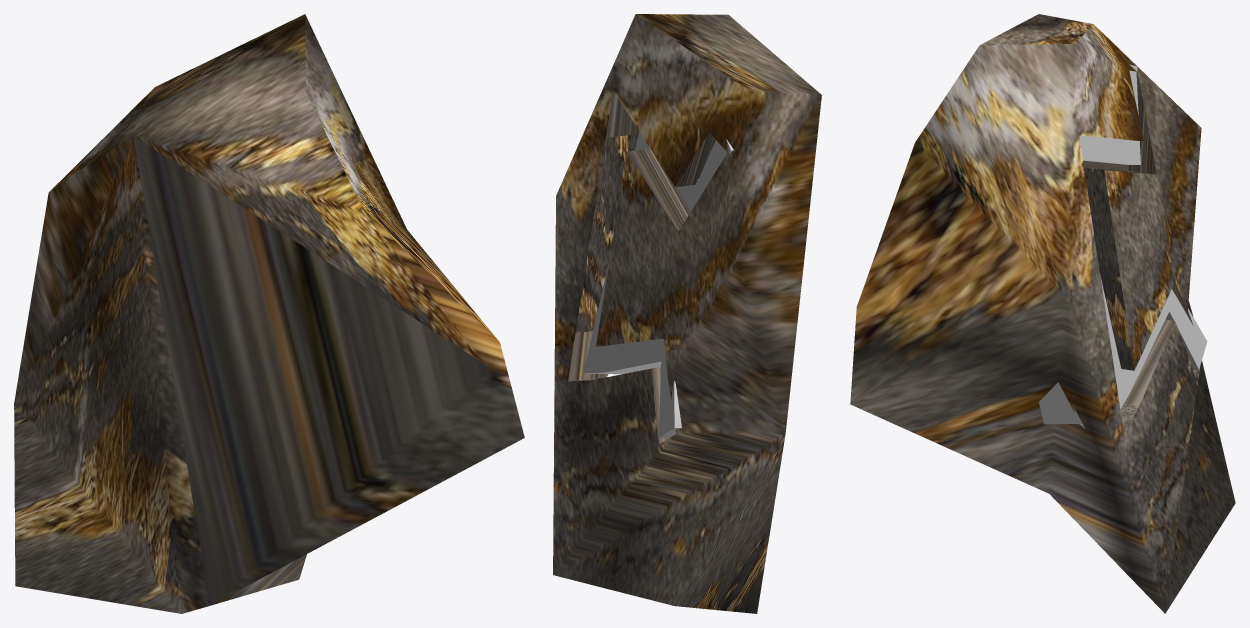
File: Rune.obj
3 views of the same model, side by side, from view 1: azimuth 30°, elevation 25°; view 2: azimuth 150°, elevation 25°; view 3: azimuth 270°, elevation 25° (orthographic). The views are drawn at different scales.
Visible parts, largest first — view 1: pPlatonic2; view 2: pPlatonic2, pCube2; view 3: pPlatonic2, pCube2.
Part boxes in pixels (left/top/right/bottom): pPlatonic2: left=14, top=14, right=524, bottom=613; pPlatonic2: left=553, top=14, right=821, bottom=613; pCube2: left=583, top=131, right=733, bottom=438; pPlatonic2: left=850, top=14, right=1235, bottom=613; pCube2: left=1039, top=64, right=1207, bottom=424.
Bounding box in the file's own units: 2.38 × 4.25 × 2.7.
